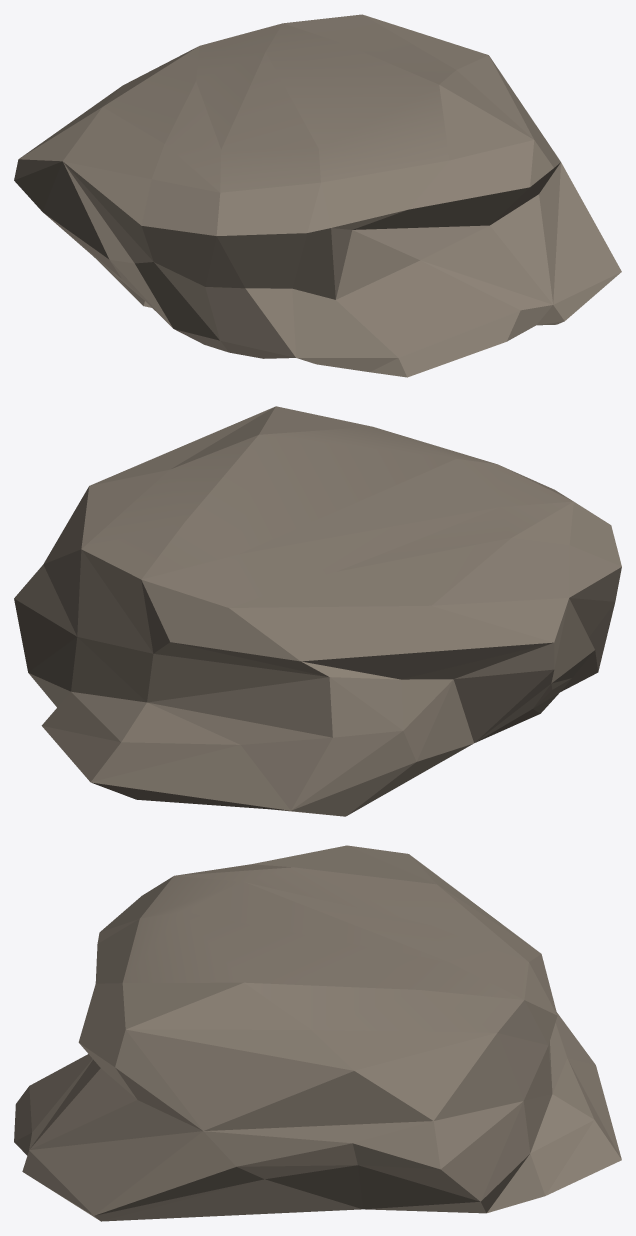
Rendered from SM_Env_Rock_03.glb.
3 views of the same model, one above another, from view 1: azimuth 30°, elevation 25°; view 2: azimuth 150°, elevation 25°; view 3: azimuth 270°, elevation 25° (orthographic). The views are drawn at different scales.
Visible parts, largest first — view 1: SM_Env_Rock_03; view 2: SM_Env_Rock_03; view 3: SM_Env_Rock_03.
Part boxes in pixels (x1,y1,x2,y2): SM_Env_Rock_03: (14,14,621,377); SM_Env_Rock_03: (14,406,621,816); SM_Env_Rock_03: (14,845,621,1221).
Bounding box in the file's own units: 3.3 × 1.3 × 3.43.
Materials: 1 (1 with a texture image).
